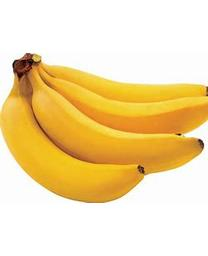banana: (1, 52, 207, 204)
